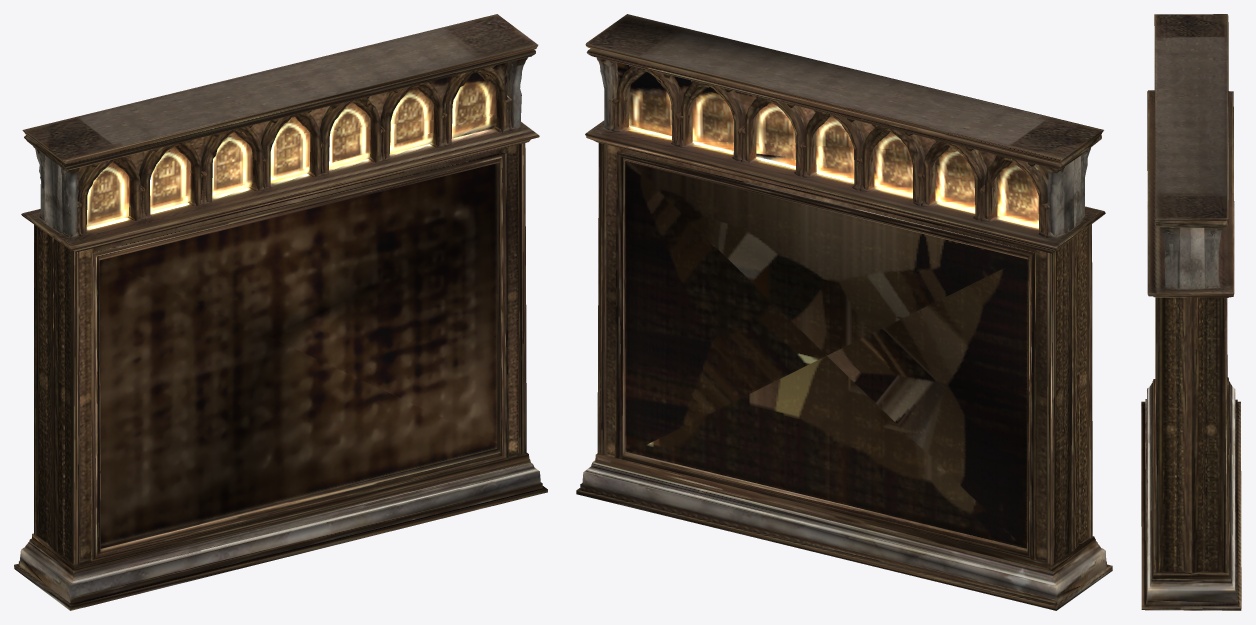
File: Meshy_AI_Golden_Quranic_Callig_0721143604_texture.fbx
The picture shows the model from 3 angles, left to right: view 1: azimuth 30°, elevation 25°; view 2: azimuth 150°, elevation 25°; view 3: azimuth 270°, elevation 25°; orthographic projection. The views are drawn at different scales.
Parts seen in each view (by area): view 1: Mesh_0; view 2: Mesh_0; view 3: Mesh_0.
Boxes of the visible parts, bbox=[...] form: Mesh_0: bbox=[14, 14, 547, 610]; Mesh_0: bbox=[576, 14, 1112, 610]; Mesh_0: bbox=[1141, 14, 1241, 610].
Size of the model in its own units: 99.8 by 88.87 by 20.56.
1 material, 1 textured.
